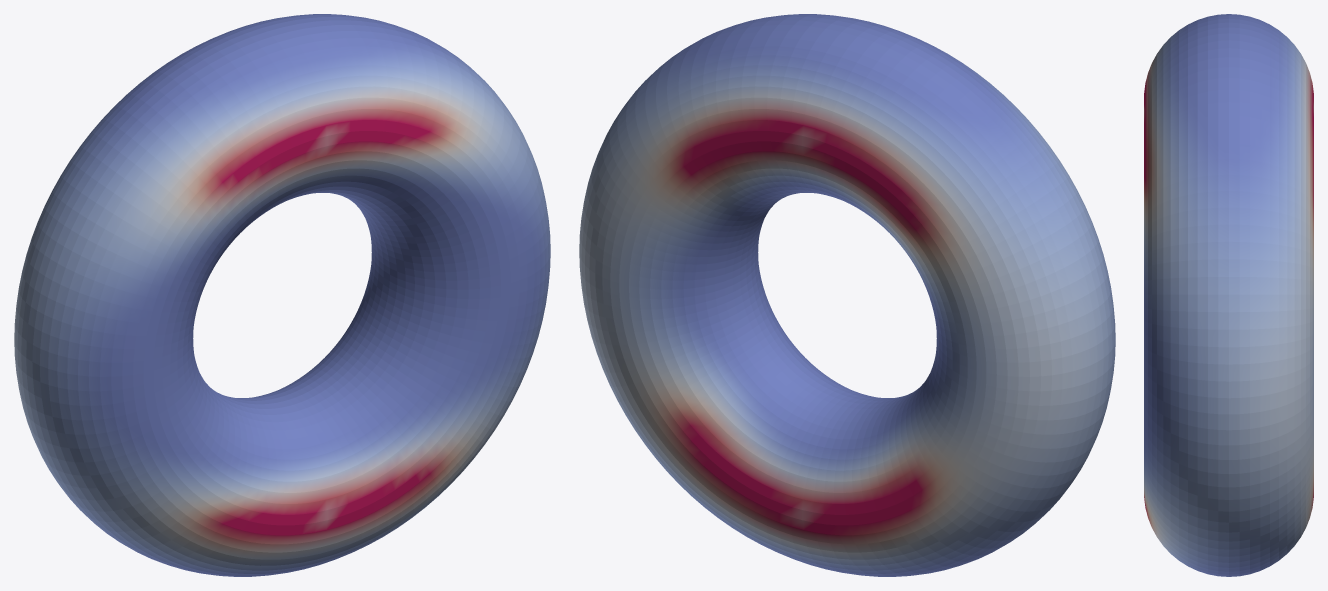
3 views of the same model, side by side, from view 1: azimuth 30°, elevation 25°; view 2: azimuth 150°, elevation 25°; view 3: azimuth 270°, elevation 25° (orthographic). The views are drawn at different scales.
Visible parts, largest first — view 1: world; view 2: world; view 3: world.
Boxes of the visible parts, x1,y1,x2,y2 form: world: (14, 14, 550, 576); world: (579, 14, 1115, 576); world: (1144, 14, 1313, 576).
Size of the model in its own units: 17.2 by 17.2 by 5.19.
